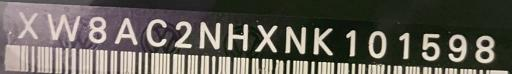letter: (43, 9, 85, 44), (470, 31, 500, 65), (13, 8, 43, 41), (111, 14, 141, 47), (196, 17, 224, 52), (418, 28, 446, 63), (443, 32, 473, 64), (142, 15, 170, 48), (223, 20, 251, 52), (252, 20, 280, 52), (364, 26, 392, 57), (282, 24, 310, 54), (310, 25, 338, 55), (170, 18, 196, 50), (84, 13, 108, 44), (396, 27, 416, 61), (342, 25, 362, 57)
